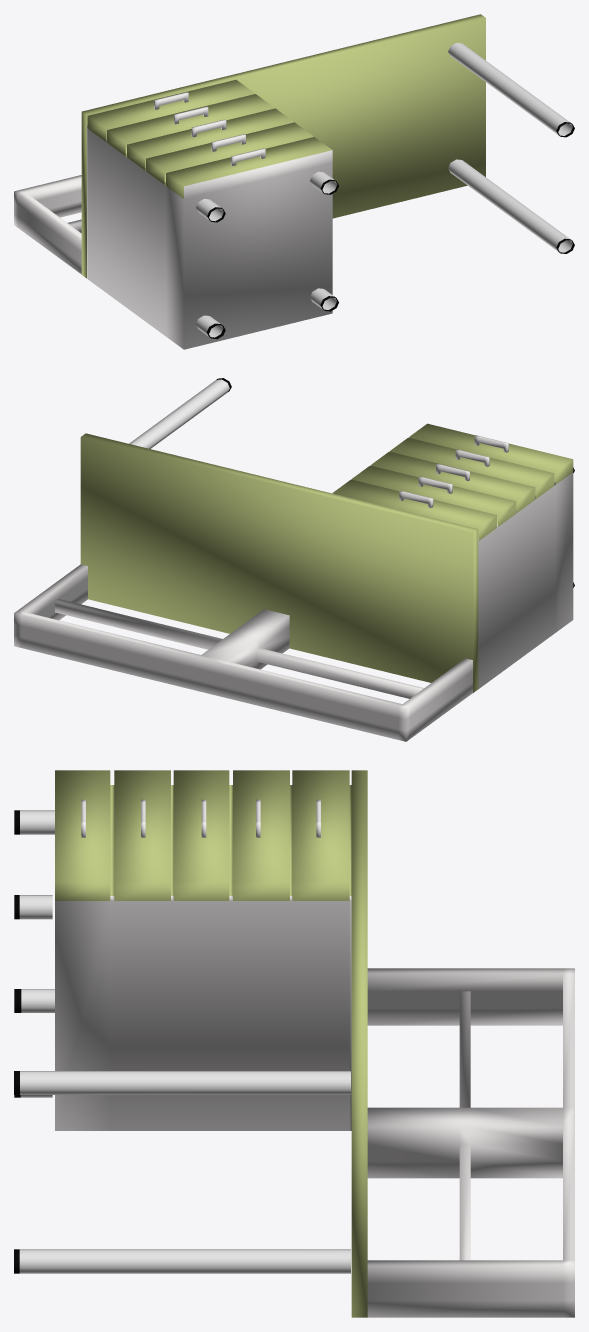
3 renders of one model, top to bottom at view 1: azimuth 30°, elevation 25°; view 2: azimuth 150°, elevation 25°; view 3: azimuth 270°, elevation 25°, orthographic. The views are drawn at different scales.
Visible parts, largest first — view 1: Cube.001; view 2: Cube.001; view 3: Cube.001.
Part boxes in pixels (x1,y1,x2,y2): Cube.001: (14,14,574,349); Cube.001: (14,378,574,741); Cube.001: (14,770,574,1317).
Size of the model in its own units: 150 by 61.76 by 119.
